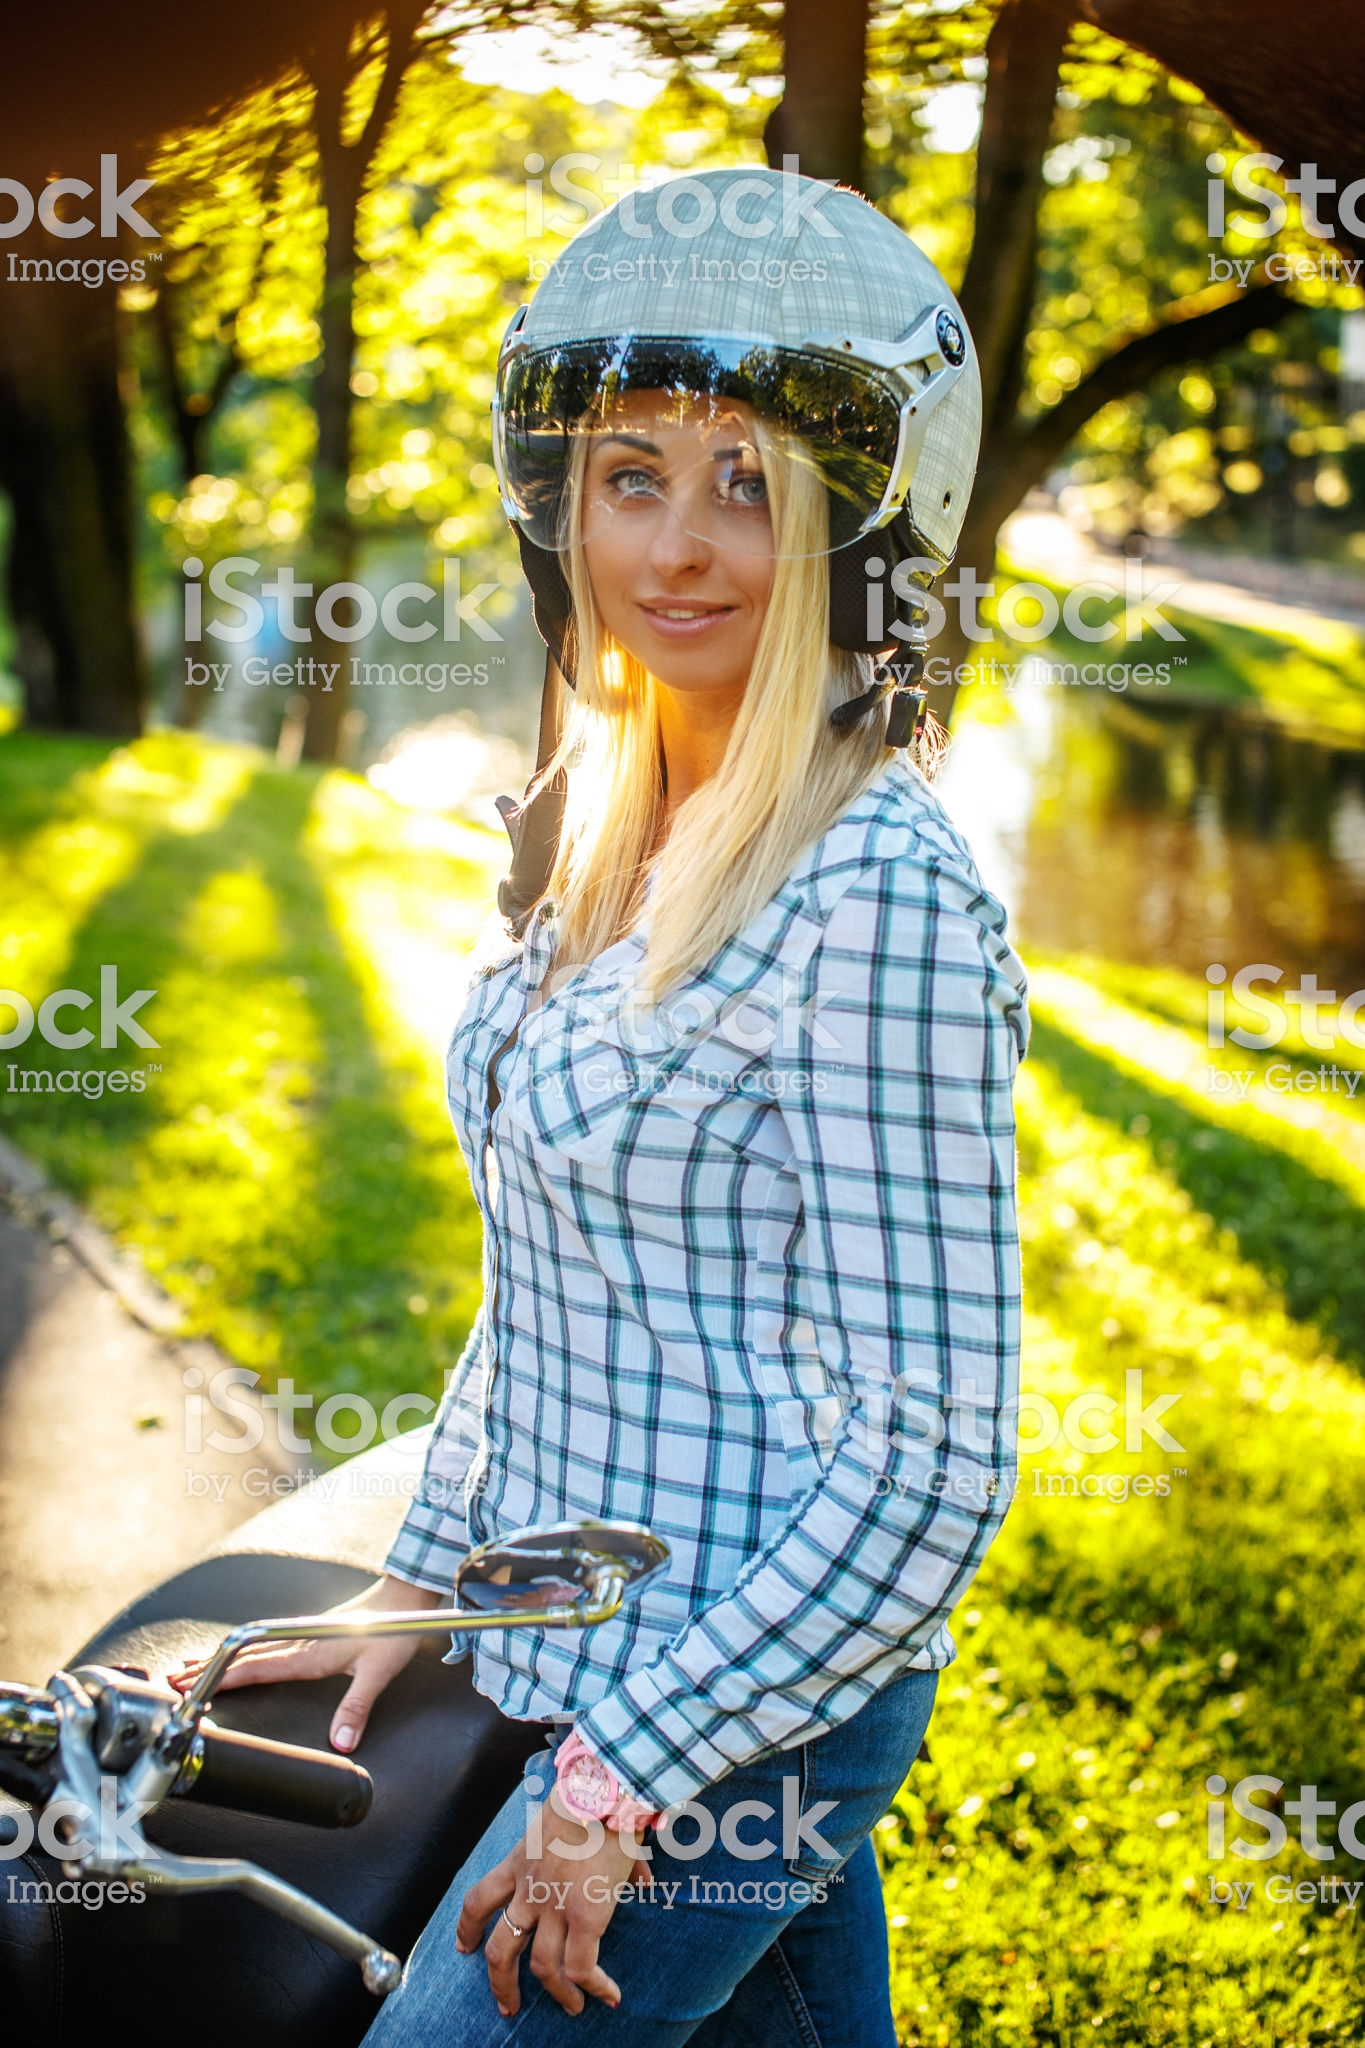helmet: (484, 169, 1021, 597)
